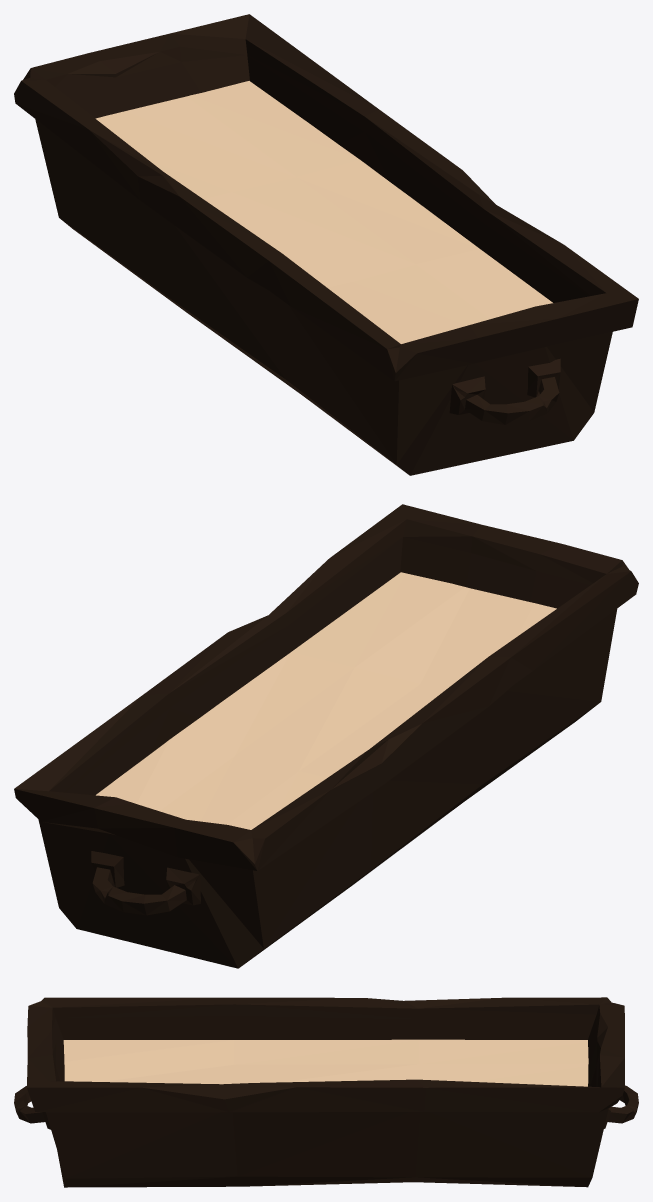
The model's file is SFFA_Bucket_Water_003.fbx.
3 views of the same model, one above another, from view 1: azimuth 30°, elevation 25°; view 2: azimuth 150°, elevation 25°; view 3: azimuth 270°, elevation 25° (orthographic). The views are drawn at different scales.
Visible parts, largest first — view 1: SFFA_Bucket_Water_003; view 2: SFFA_Bucket_Water_003; view 3: SFFA_Bucket_Water_003.
Part boxes in pixels (bbox=[...]): SFFA_Bucket_Water_003: bbox=[14, 14, 638, 475]; SFFA_Bucket_Water_003: bbox=[14, 504, 638, 968]; SFFA_Bucket_Water_003: bbox=[14, 997, 638, 1187].
Bounding box in the file's own units: 37.86 × 22.7 × 111.
